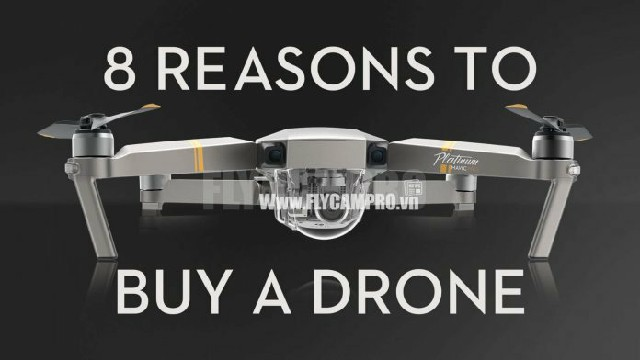maybay_khongnguoilai: (34, 98, 577, 261)
